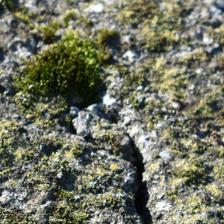Crack: (50, 54, 109, 167)
